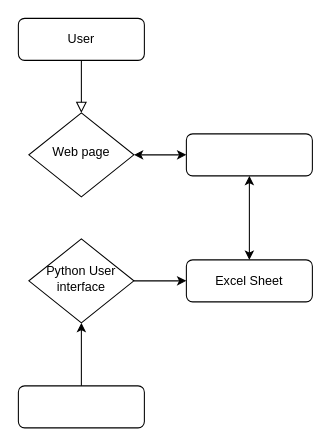
Image size: 331x446. Some labels were removed from this diagram. Here are the shapes that lost their labels. From the top down, the centre of each, then its label:
point (248, 154): Database
point (80, 406): Medical stores and Hospitals
